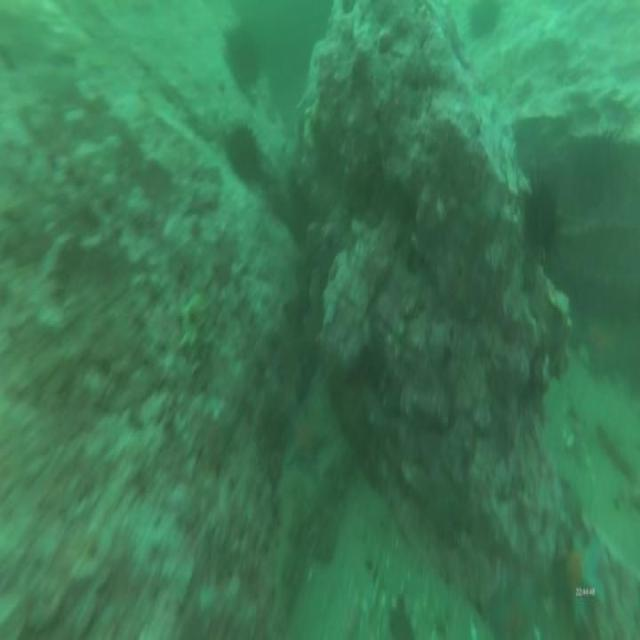echinus: (522, 169, 564, 264), (222, 114, 265, 193), (220, 19, 264, 92), (463, 0, 505, 43), (387, 589, 417, 640)
holothurian: (300, 469, 334, 561)
starfish: (554, 525, 612, 632), (487, 569, 549, 640), (282, 403, 333, 484), (578, 303, 626, 378)
